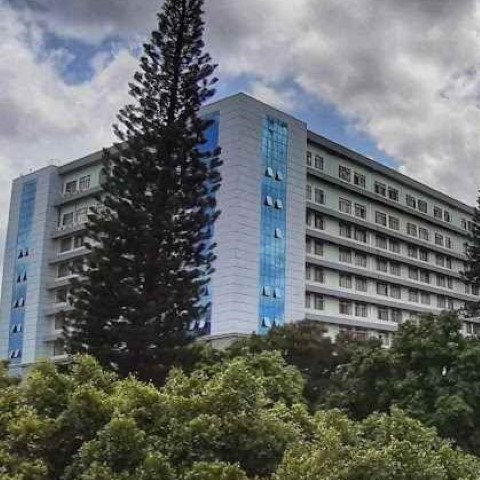Central Block: (5, 149, 480, 386)
